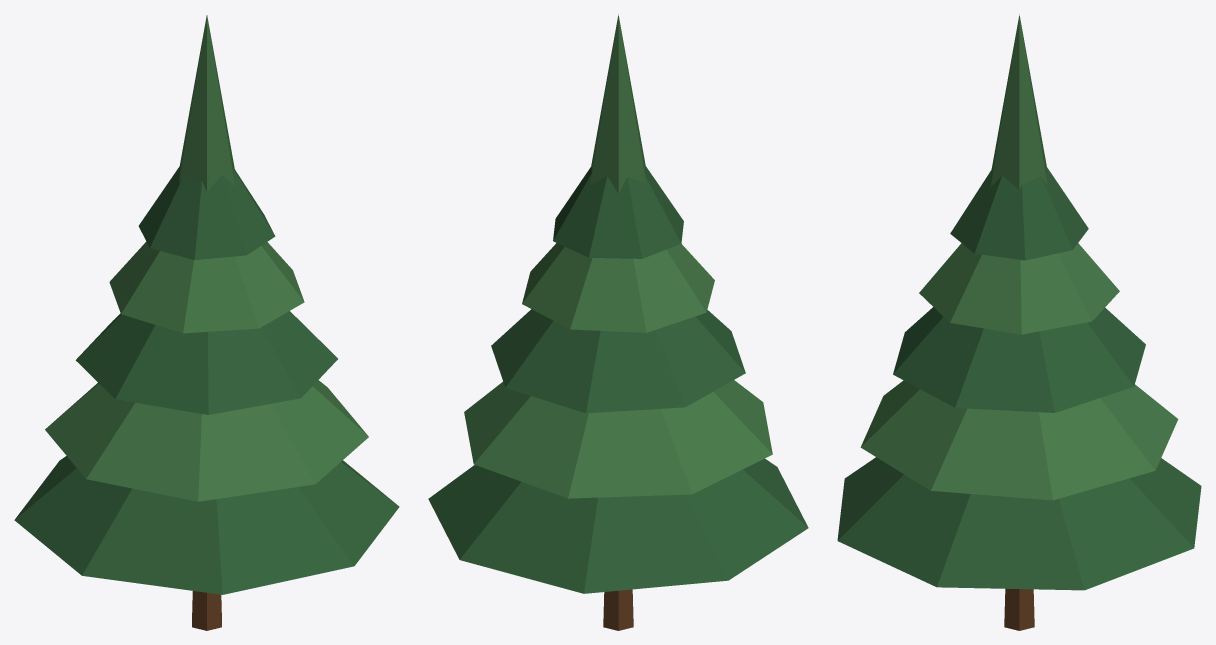
File: Pine_Sapling.fbx
3 renders of one model, left to right at view 1: azimuth 30°, elevation 25°; view 2: azimuth 150°, elevation 25°; view 3: azimuth 270°, elevation 25°, orthographic.
Parts seen in each view (by area): view 1: Pine_Sapling; view 2: Pine_Sapling; view 3: Pine_Sapling.
Part boxes in pixels (x1,y1,x2,y2): Pine_Sapling: (14, 15, 399, 630); Pine_Sapling: (428, 14, 808, 630); Pine_Sapling: (837, 14, 1201, 630).
Size of the model in its own units: 1.32 by 2.44 by 1.32.
